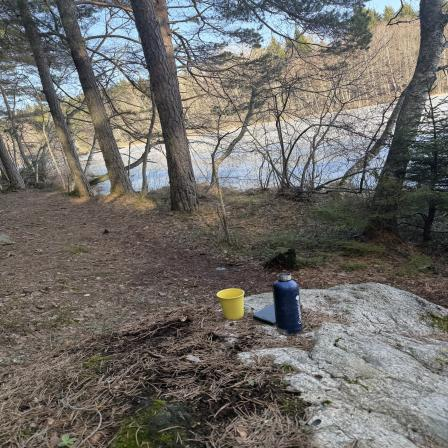blue_bottle: (273, 272, 307, 332)
yellow_cup: (216, 286, 250, 321)
